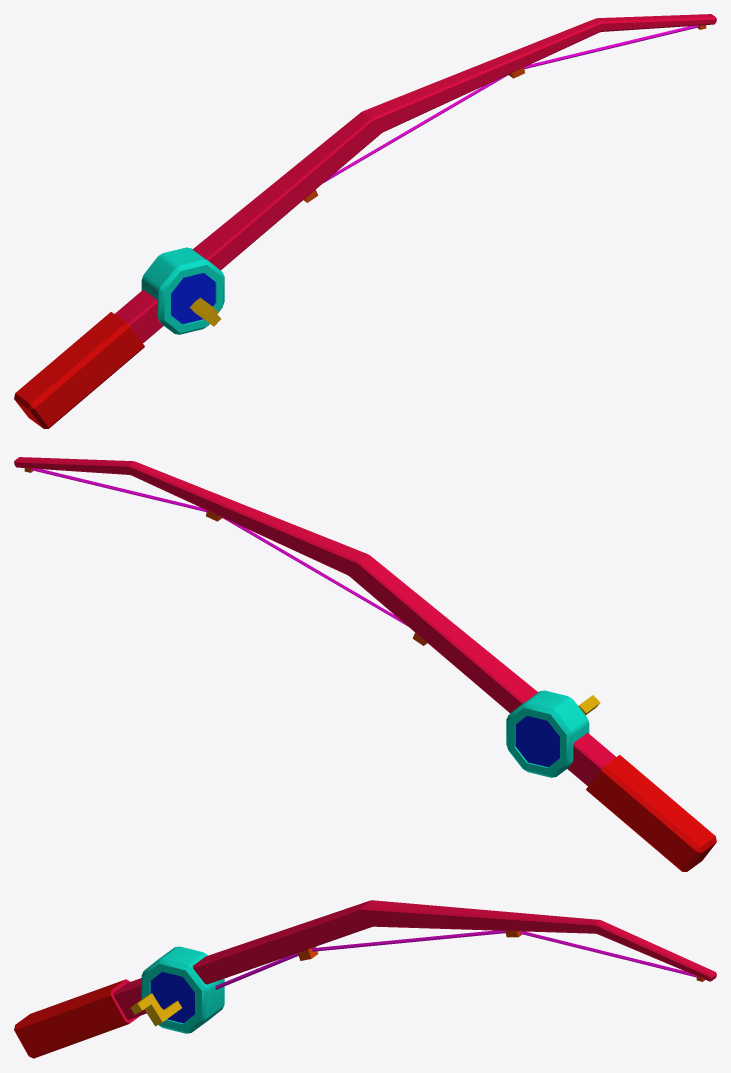
Rendered from Fishing rod (1).fbx.
3 renders of one model, top to bottom at view 1: azimuth 30°, elevation 25°; view 2: azimuth 150°, elevation 25°; view 3: azimuth 330°, elevation 25°, orthographic.
Parts seen in each view (by area): view 1: pCube16; view 2: pCube16; view 3: pCube16.
Part boxes in pixels (left/top/right/bottom): pCube16: left=14, top=14, right=716, bottom=428; pCube16: left=14, top=457, right=716, bottom=871; pCube16: left=14, top=900, right=716, bottom=1058.
Bounding box in the file's own units: 57.92 × 21.35 × 7.09.
